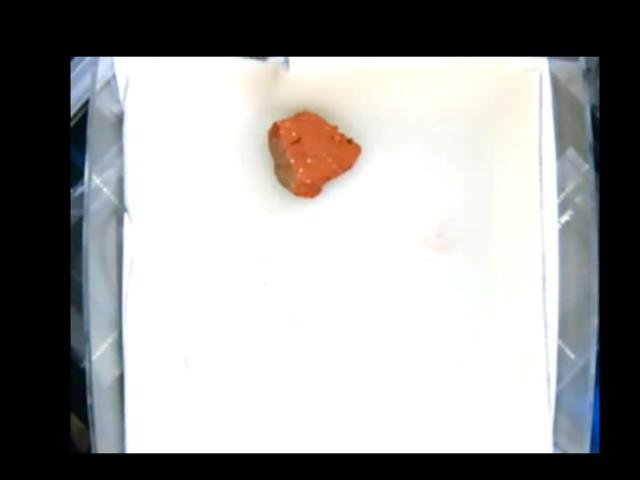Brisk: (268, 109, 359, 203)
